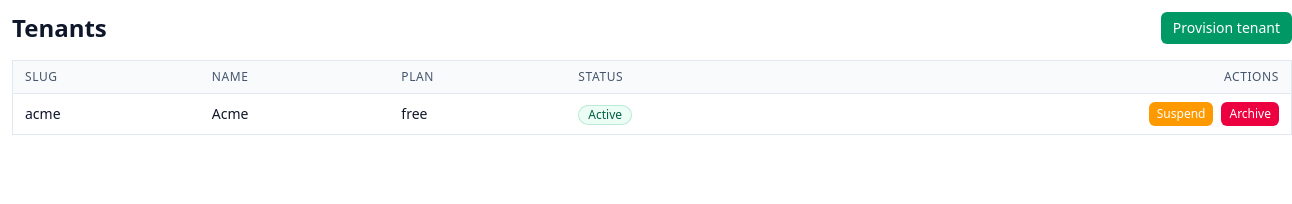
TenantManagement › surfaces backend errors
Click the button with test id "tenant-action-suspend-acme" at (1181, 114), box [1149,102,1214,126]
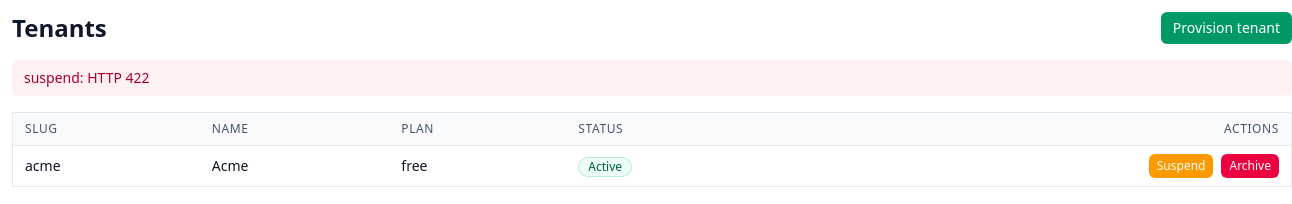
Expected: the text "suspend: HTTP 422" is shown, [12,60,1291,96]
